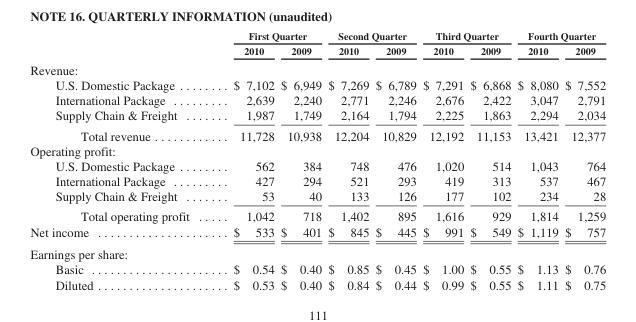table: (29, 29, 605, 291)
table column: (29, 29, 210, 291), (210, 29, 276, 291), (276, 29, 324, 291), (371, 29, 419, 291), (513, 29, 561, 291), (324, 29, 371, 291), (419, 29, 466, 291), (466, 29, 513, 291), (561, 29, 605, 291)
table column header: (29, 29, 605, 59)
table projected row header: (29, 242, 605, 261), (29, 59, 605, 77), (29, 142, 605, 158)
table row: (29, 223, 605, 242), (29, 242, 605, 261), (29, 59, 605, 77), (29, 107, 605, 125), (29, 205, 605, 223), (29, 42, 605, 59), (29, 125, 605, 142), (29, 188, 605, 205), (29, 142, 605, 158), (29, 77, 605, 92), (29, 92, 605, 107), (29, 158, 605, 173), (29, 173, 605, 188), (29, 261, 605, 276), (29, 276, 605, 291), (29, 29, 605, 42)
table spanning cell: (210, 29, 324, 42), (324, 29, 419, 42), (419, 29, 513, 42), (513, 29, 605, 42)
